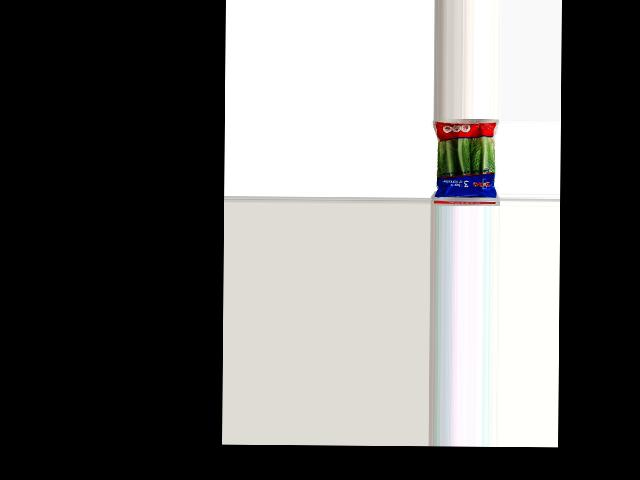lettuce: (434, 119, 500, 201)
